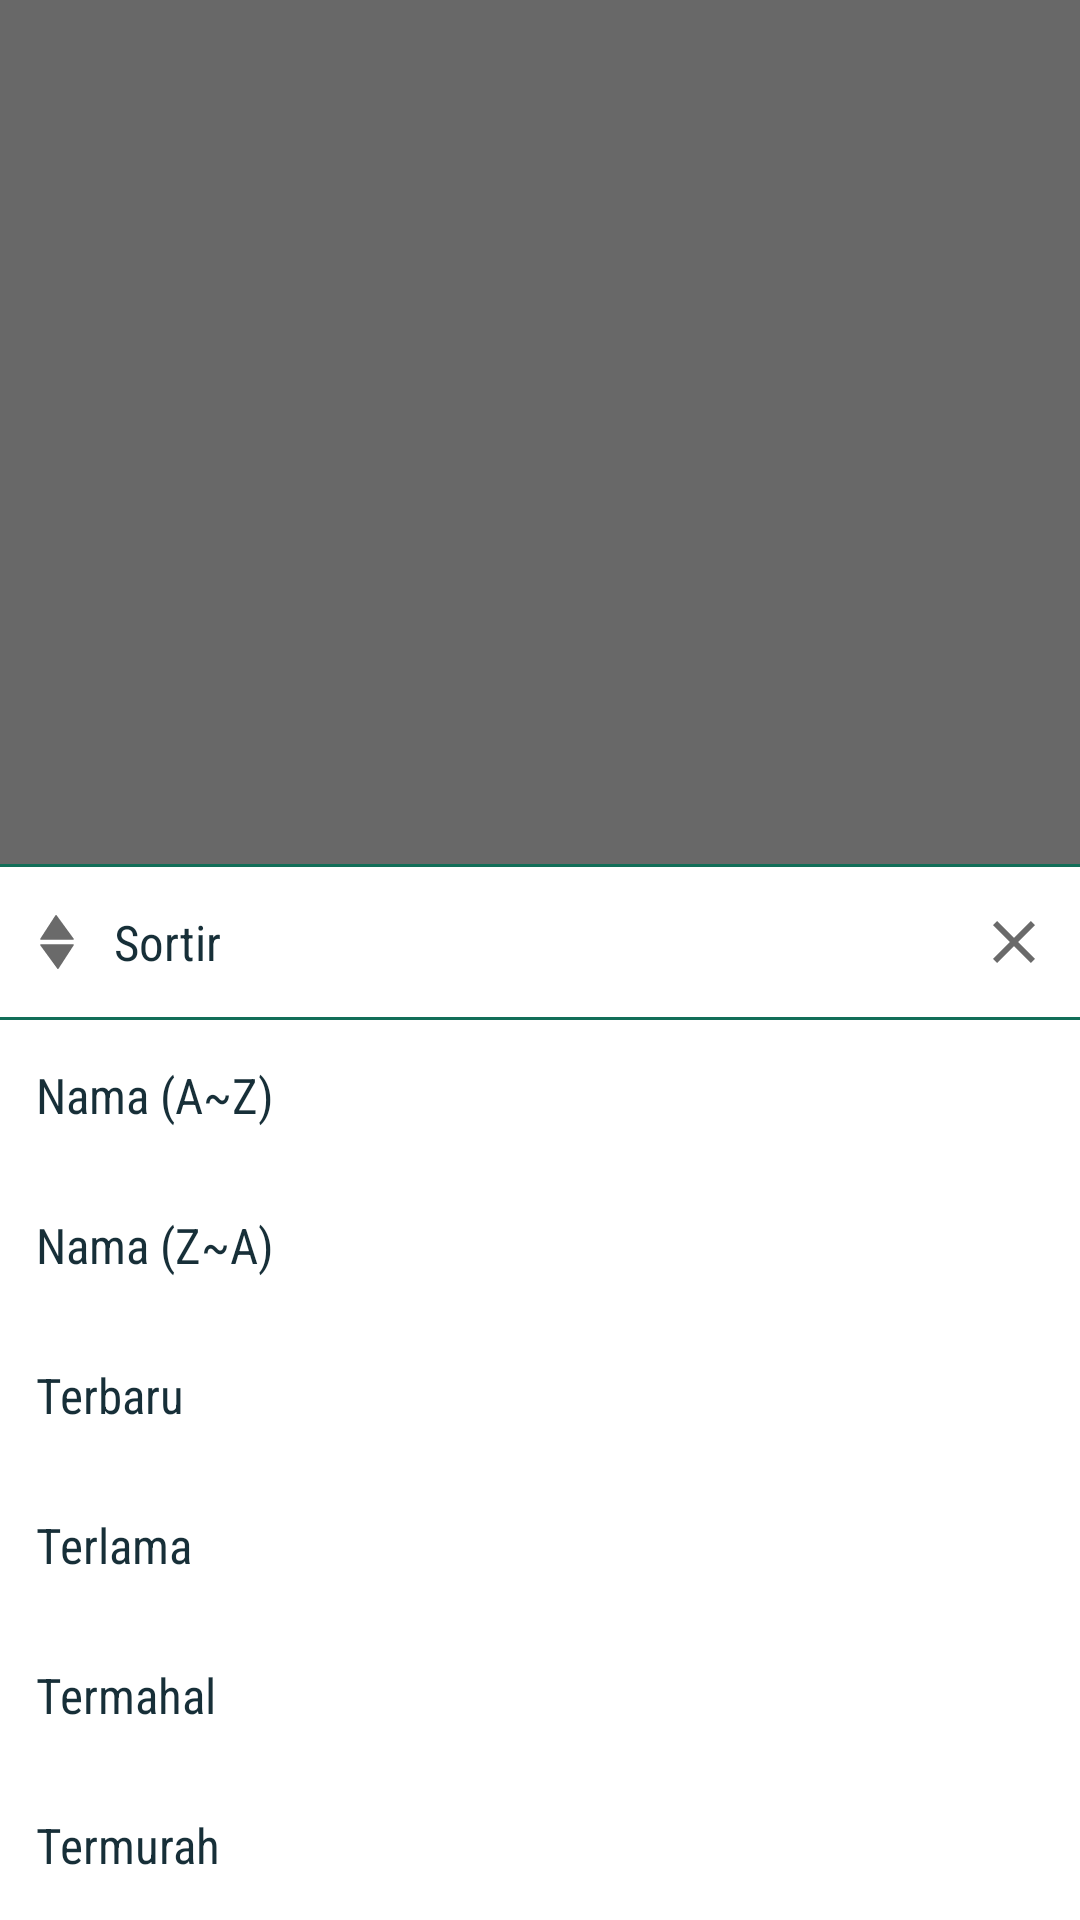

Where to tap for icons on this 1080w x 1920h app screen, as point (x, y):
close: point (1014, 942)
